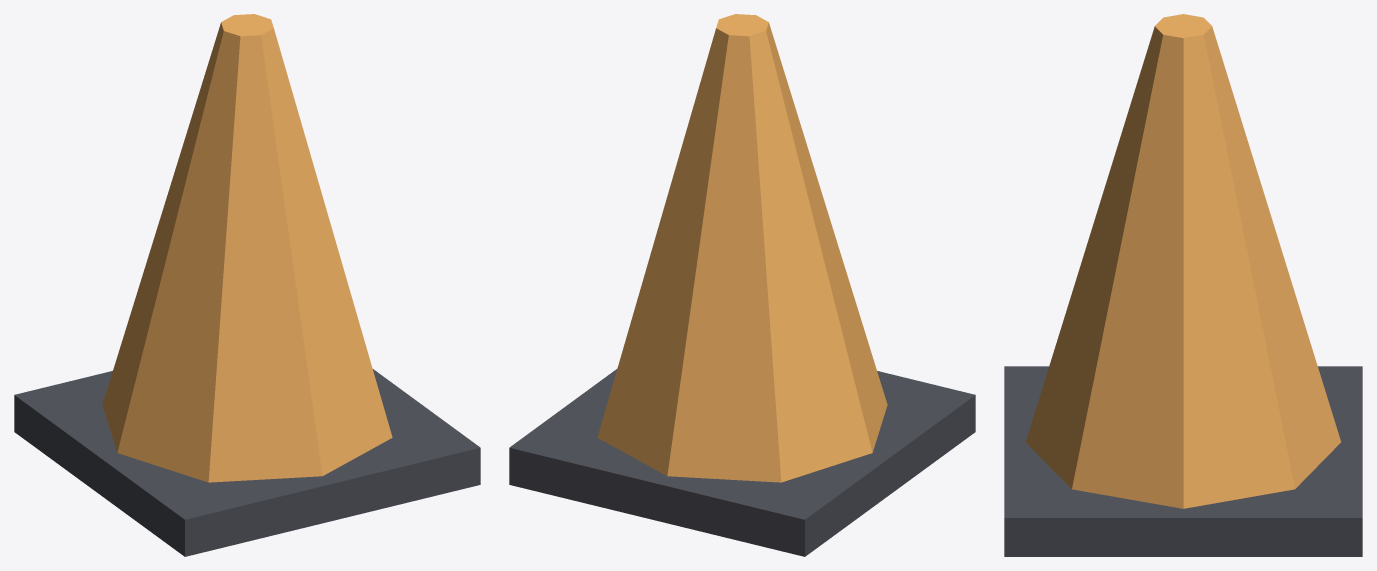
The picture shows the model from 3 angles, left to right: view 1: azimuth 30°, elevation 25°; view 2: azimuth 150°, elevation 25°; view 3: azimuth 270°, elevation 25°; orthographic projection. The views are drawn at different scales.
Parts seen in each view (by area): view 1: cone; view 2: cone; view 3: cone.
Boxes of the visible parts, <box> form: cone: <box>14,14,480,556</box>; cone: <box>509,14,975,556</box>; cone: <box>1004,14,1362,556</box>.
Size of the model in its own units: 0.5 by 0.7 by 0.5.
